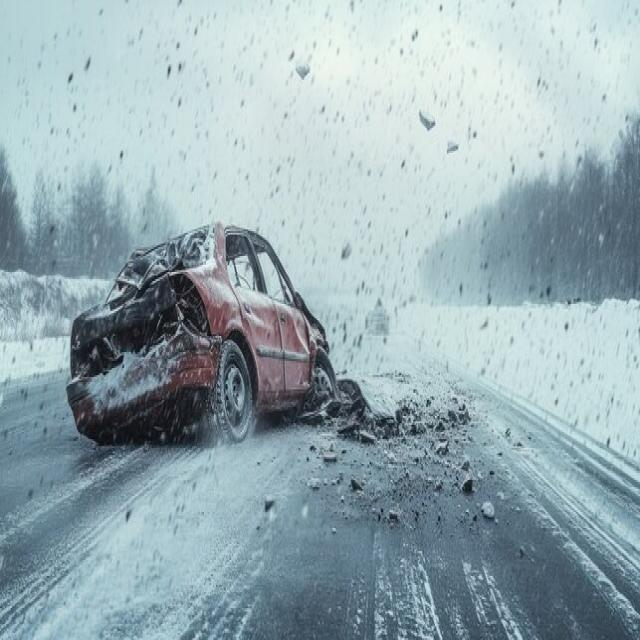Accident: (62, 215, 343, 450)
